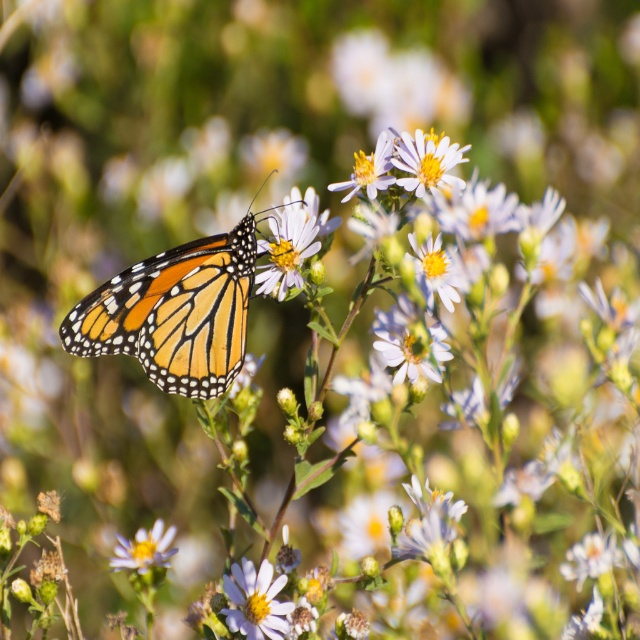Butterfly: (60, 167, 310, 402)
